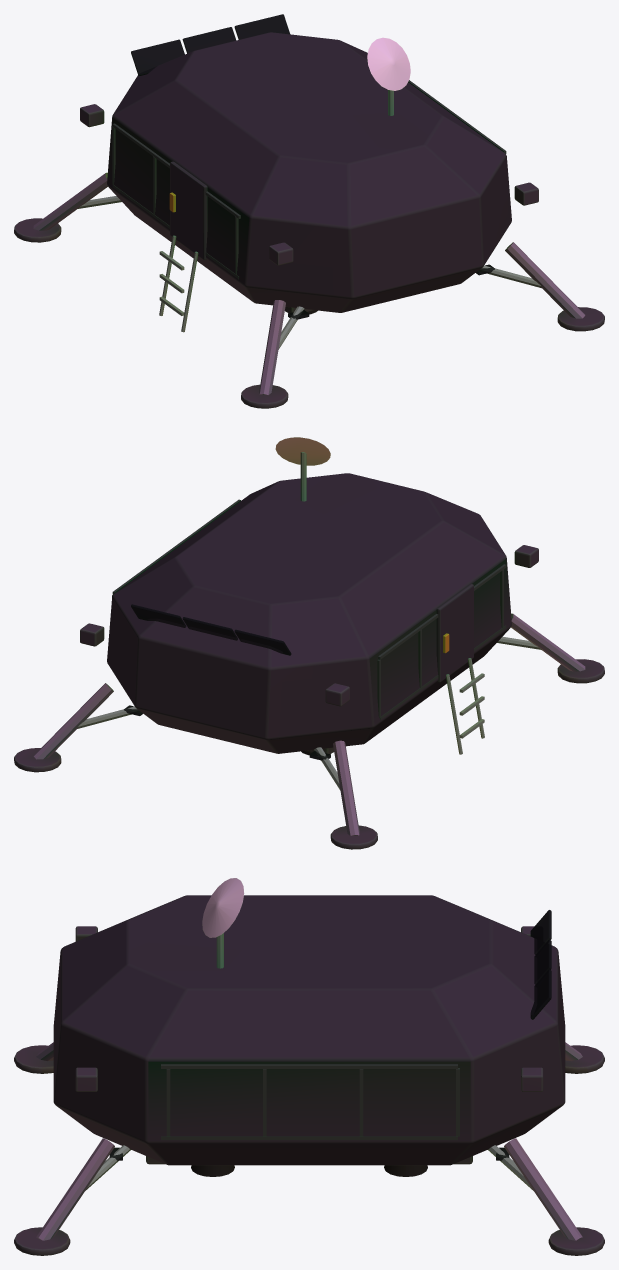
File: lazarus_lander.glb
The picture shows the model from 3 angles, top to bottom: view 1: azimuth 30°, elevation 25°; view 2: azimuth 150°, elevation 25°; view 3: azimuth 270°, elevation 25°; orthographic projection. The views are drawn at different scales.
Visible parts, largest first — view 1: lander__m; view 2: lander__m; view 3: lander__m.
Boxes of the visible parts, <box> form: lander__m: <box>14,14,604,408</box>; lander__m: <box>14,437,604,849</box>; lander__m: <box>14,878,604,1255</box>.
Size of the model in its own units: 6.56 by 4.41 by 7.96.
